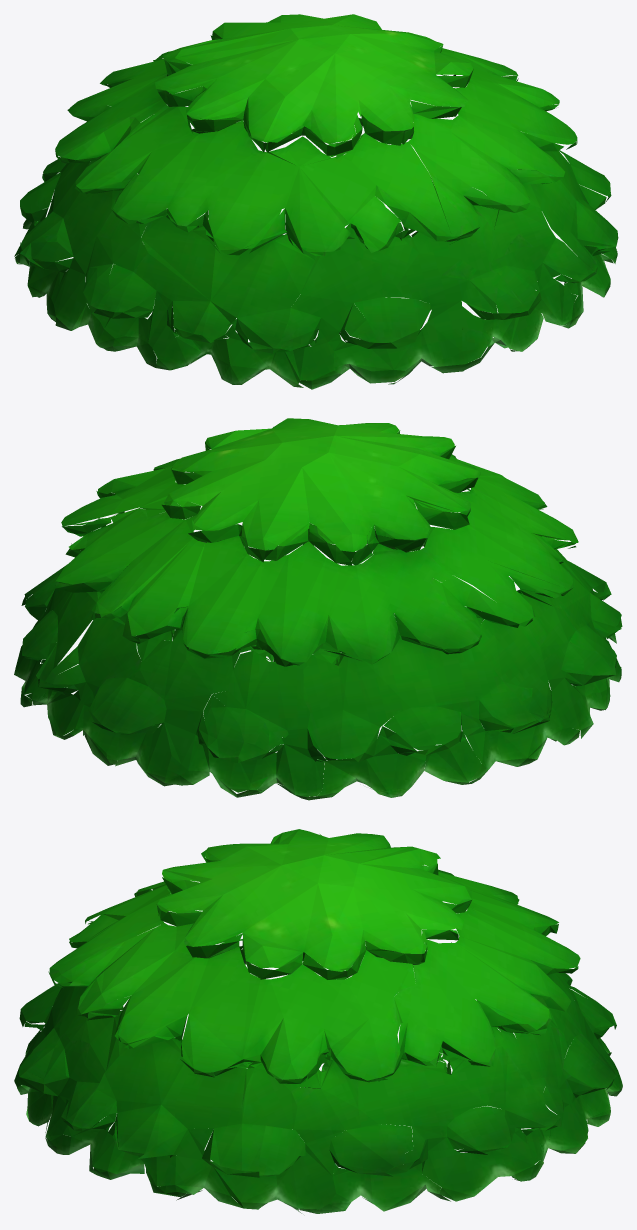
File: bush.glb
3 views of the same model, one above another, from view 1: azimuth 30°, elevation 25°; view 2: azimuth 150°, elevation 25°; view 3: azimuth 270°, elevation 25° (orthographic).
Parts seen in each view (by area): view 1: geometry_0; view 2: geometry_0; view 3: geometry_0.
Boxes of the visible parts, <box> form: geometry_0: <box>14,14,618,389</box>; geometry_0: <box>14,418,622,800</box>; geometry_0: <box>14,829,622,1213</box>.
Size of the model in its own units: 0.9971 by 0.4149 by 0.9995.
1 material, 1 textured.
